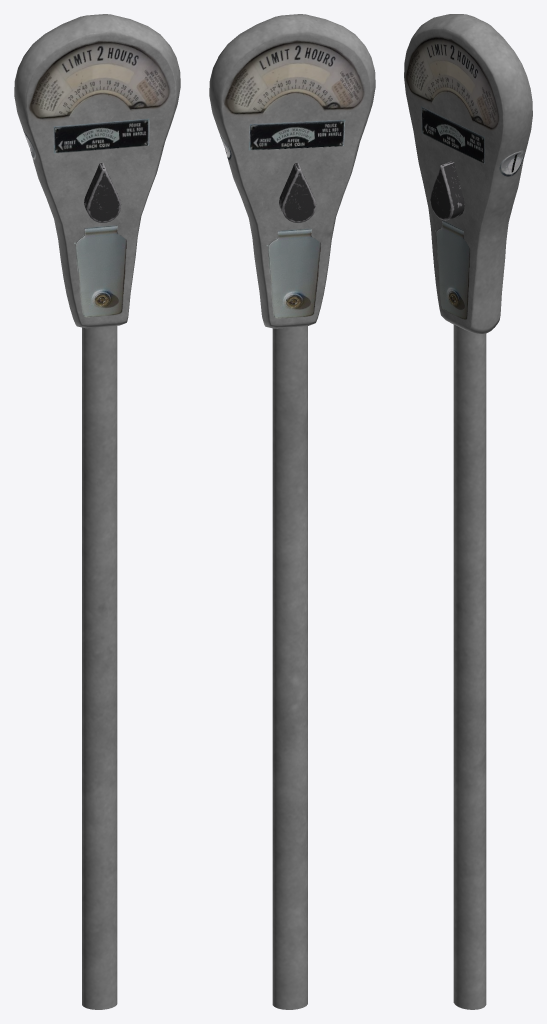
Rendered from humidity_sensor0.glb.
The picture shows the model from 3 angles, left to right: view 1: azimuth 30°, elevation 25°; view 2: azimuth 210°, elevation 25°; view 3: azimuth 330°, elevation 25°; orthographic projection.
Visible parts, largest first — view 1: ParkingMeter_ParkingMeter_shader_0; view 2: ParkingMeter_ParkingMeter_shader_0; view 3: ParkingMeter_ParkingMeter_shader_0.
Boxes of the visible parts, x1,y1,x2,y2 form: ParkingMeter_ParkingMeter_shader_0: (14,14,180,1009); ParkingMeter_ParkingMeter_shader_0: (209,14,375,1009); ParkingMeter_ParkingMeter_shader_0: (404,14,532,1009).
Size of the model in its own units: 0.2068 by 1.39 by 0.1109.
Materials: 1 (1 with a texture image).
